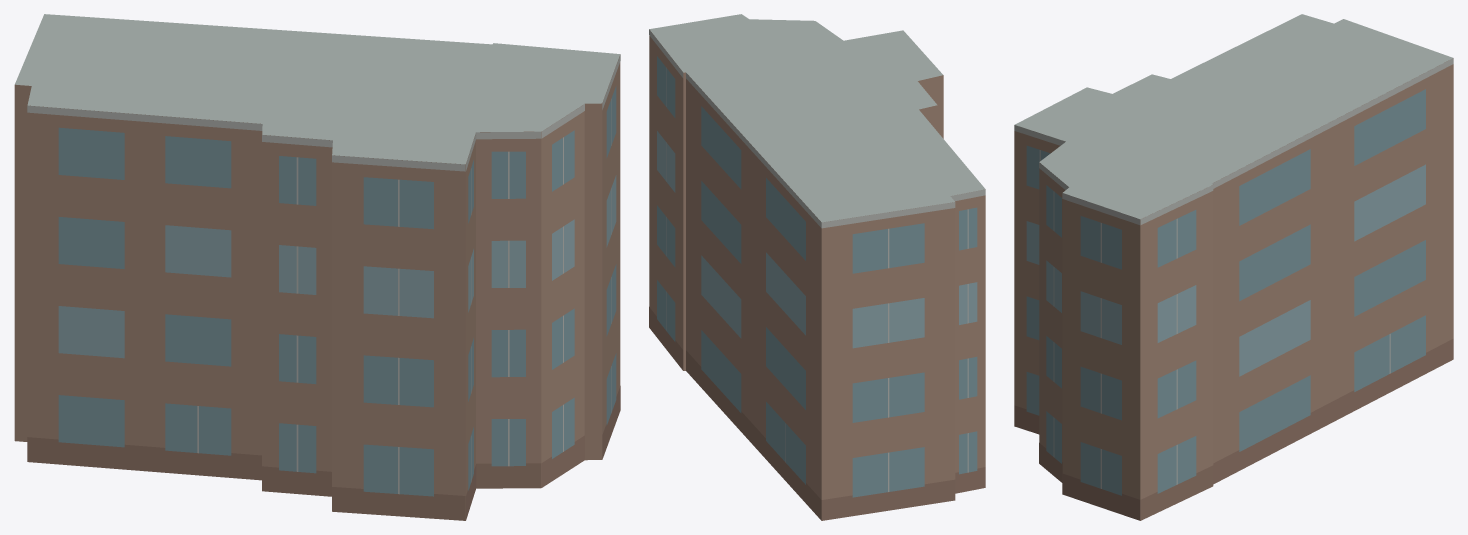
File: survey-upis-32926329.glb
3 views of the same model, side by side, from view 1: azimuth 30°, elevation 25°; view 2: azimuth 150°, elevation 25°; view 3: azimuth 270°, elevation 25° (orthographic). The views are drawn at different scales.
Visible parts, largest first — view 1: survey-upis-32926329.tmp; view 2: survey-upis-32926329.tmp; view 3: survey-upis-32926329.tmp.
Boxes of the visible parts, <box> form: survey-upis-32926329.tmp: <box>14,14,620,520</box>; survey-upis-32926329.tmp: <box>649,14,985,520</box>; survey-upis-32926329.tmp: <box>1014,14,1453,520</box>.
Size of the model in its own units: 17.82 by 12.2 by 16.11.
